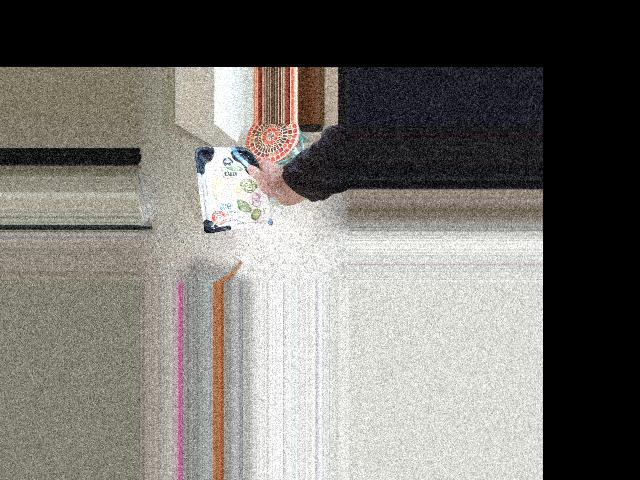cheese: (219, 158, 286, 231)
